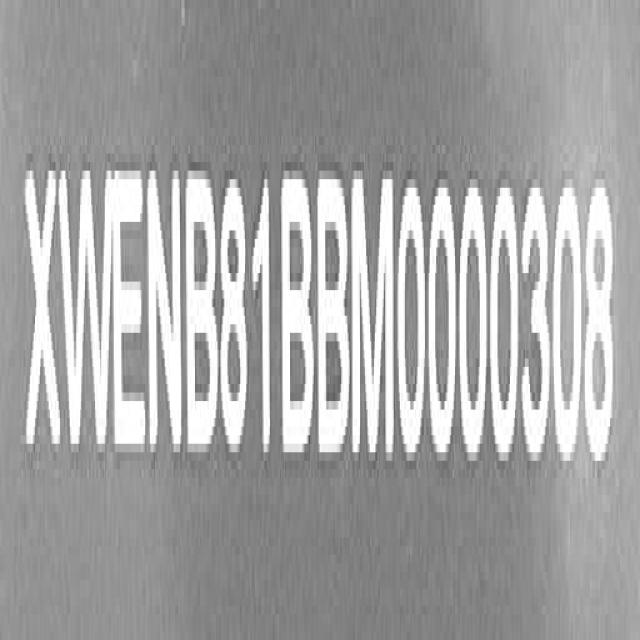0: (430, 177, 460, 468), (398, 174, 427, 467), (458, 173, 487, 464), (492, 176, 520, 465), (556, 178, 583, 467)
1: (254, 171, 278, 465)
5: (523, 178, 552, 469)
8: (219, 174, 249, 466), (586, 177, 616, 464)
B: (188, 164, 222, 464), (284, 168, 316, 462), (319, 170, 350, 467)
E: (114, 164, 147, 468)
M: (351, 171, 397, 468)
N: (146, 152, 182, 477)
W: (62, 154, 113, 472)
X: (25, 159, 61, 472)
